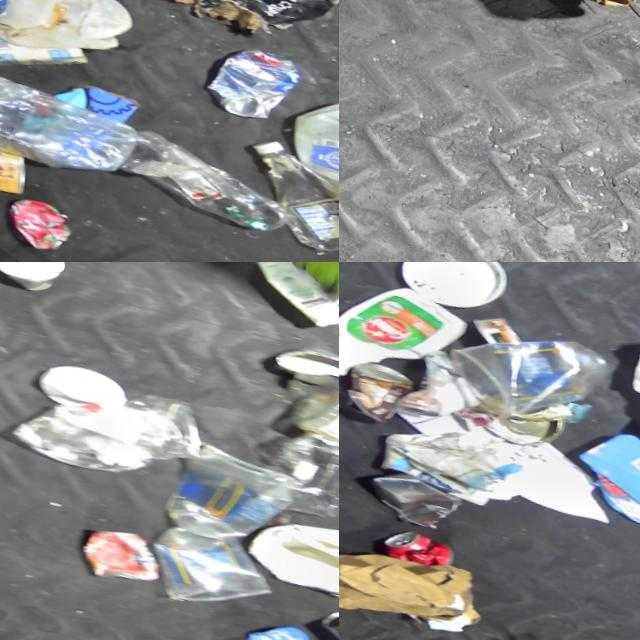can: (197, 39, 303, 136), (357, 464, 462, 539), (471, 387, 569, 460), (73, 524, 166, 598), (339, 356, 418, 432), (0, 193, 74, 259), (376, 524, 456, 578), (269, 341, 339, 400), (0, 262, 68, 301), (0, 130, 31, 203), (313, 606, 339, 640)
milk_jug: (339, 265, 470, 415), (268, 84, 339, 256), (0, 0, 140, 77), (237, 509, 339, 612)
non_white_jug: (561, 424, 640, 541)
plastic_bottle: (0, 43, 144, 196), (118, 126, 298, 247), (227, 134, 339, 262)
